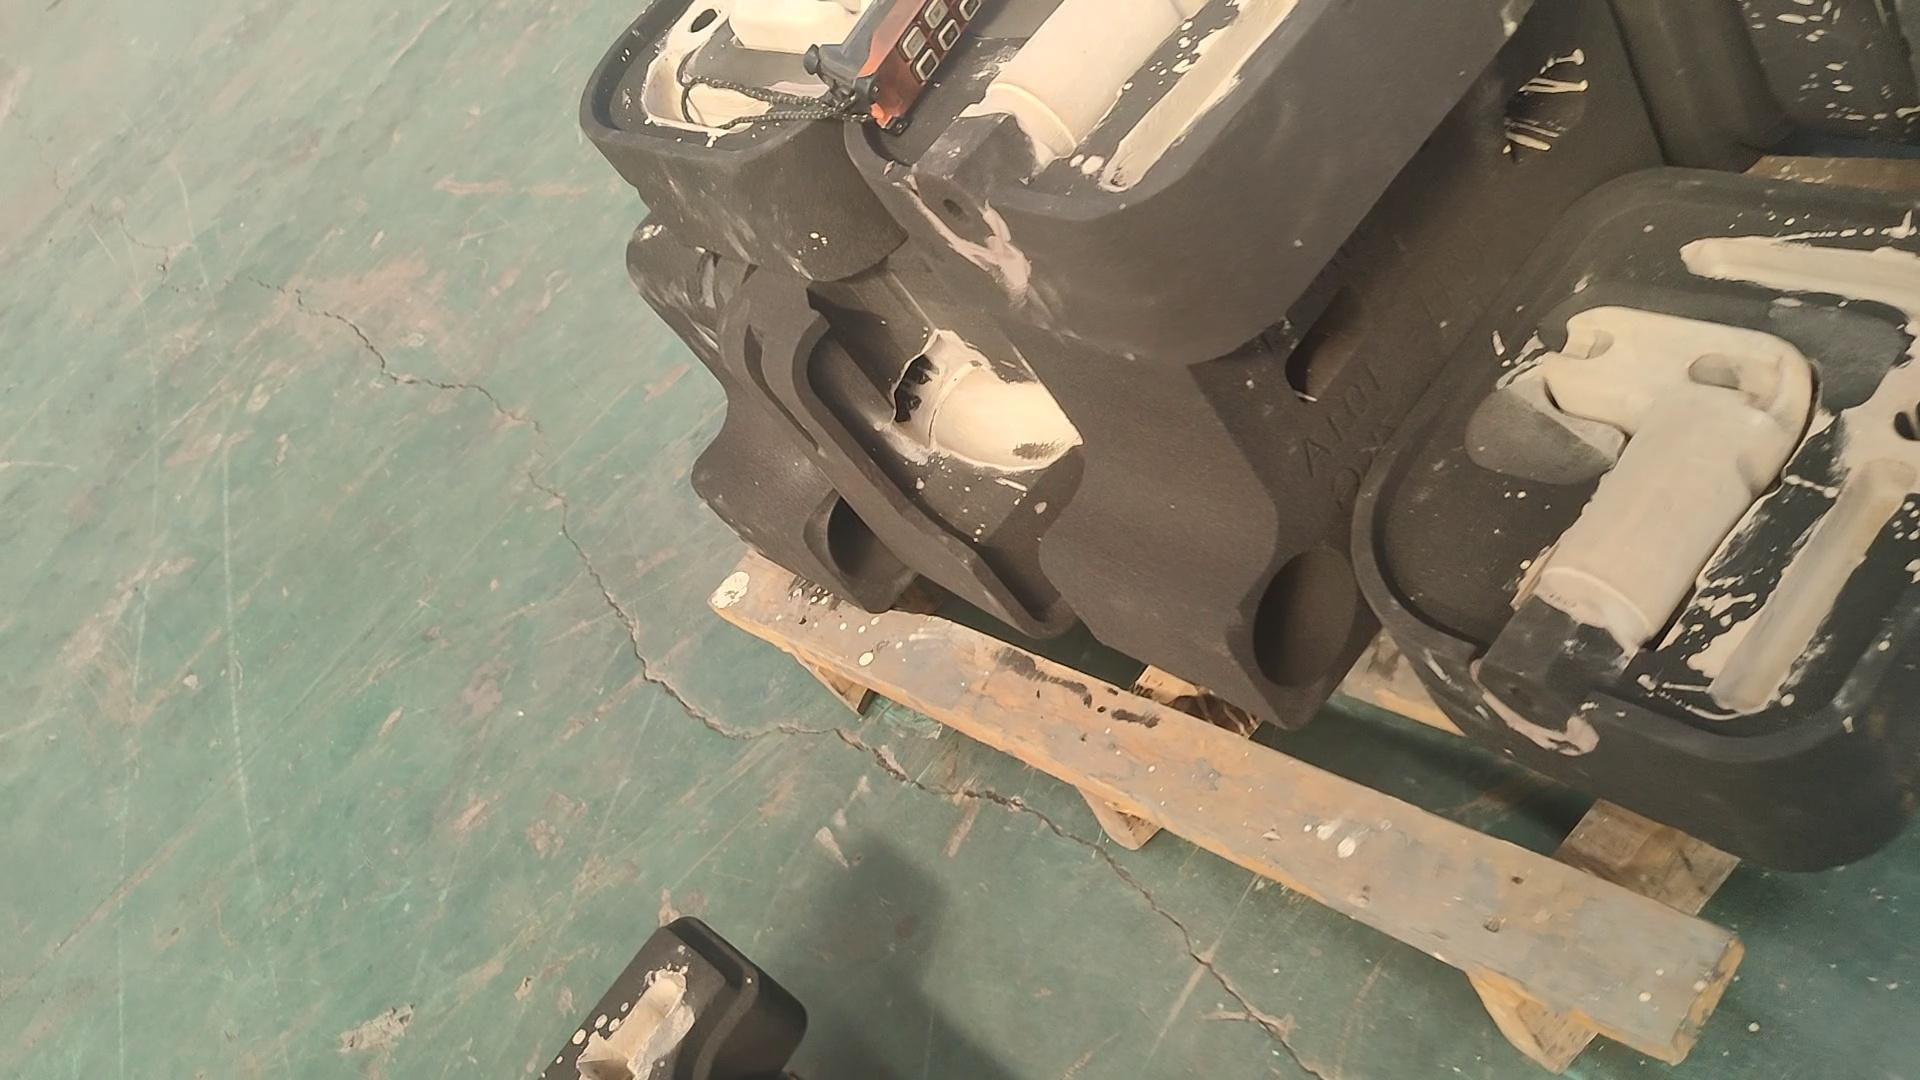pouring hole: (1251, 547, 1358, 688), (825, 483, 928, 584)
